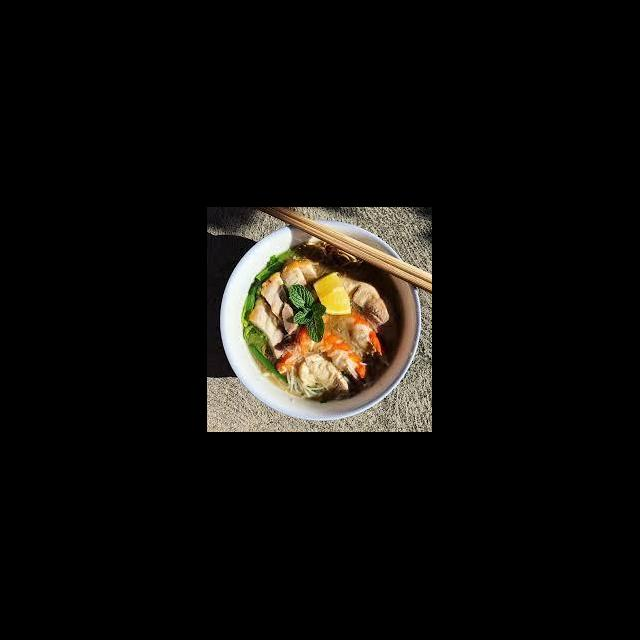ca: (296, 351, 352, 402)
thit heo quay: (256, 270, 300, 336), (245, 294, 288, 360), (280, 256, 324, 310)
tom: (294, 320, 368, 384), (310, 306, 386, 360), (272, 326, 332, 376)
